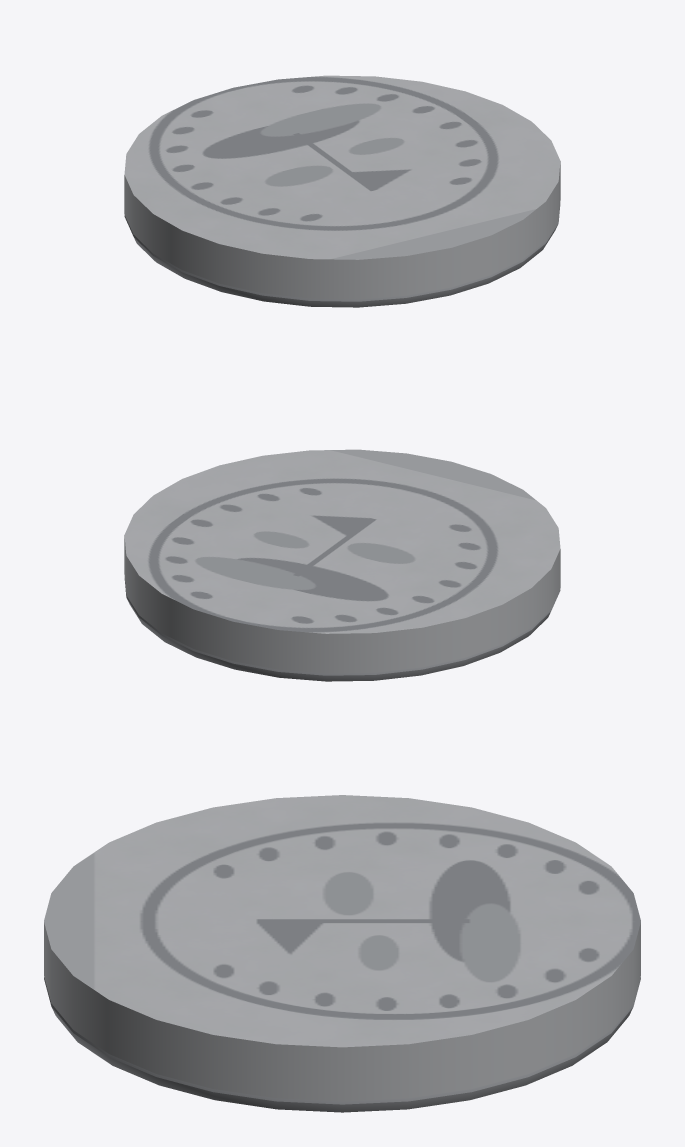
The model's file is pf_marker_engraved.glb.
3 renders of one model, top to bottom at view 1: azimuth 30°, elevation 25°; view 2: azimuth 150°, elevation 25°; view 3: azimuth 270°, elevation 25°, orthographic. The views are drawn at different scales.
Visible parts, largest first — view 1: pf_marker_engraved_body; view 2: pf_marker_engraved_body; view 3: pf_marker_engraved_body.
Boxes of the visible parts, x1,y1,x2,y2 form: pf_marker_engraved_body: (124, 75, 560, 307); pf_marker_engraved_body: (124, 449, 560, 681); pf_marker_engraved_body: (44, 795, 640, 1112).
Bounding box in the file's own units: 0.0385 × 0.006 × 0.0385.
3 materials, 1 textured.
